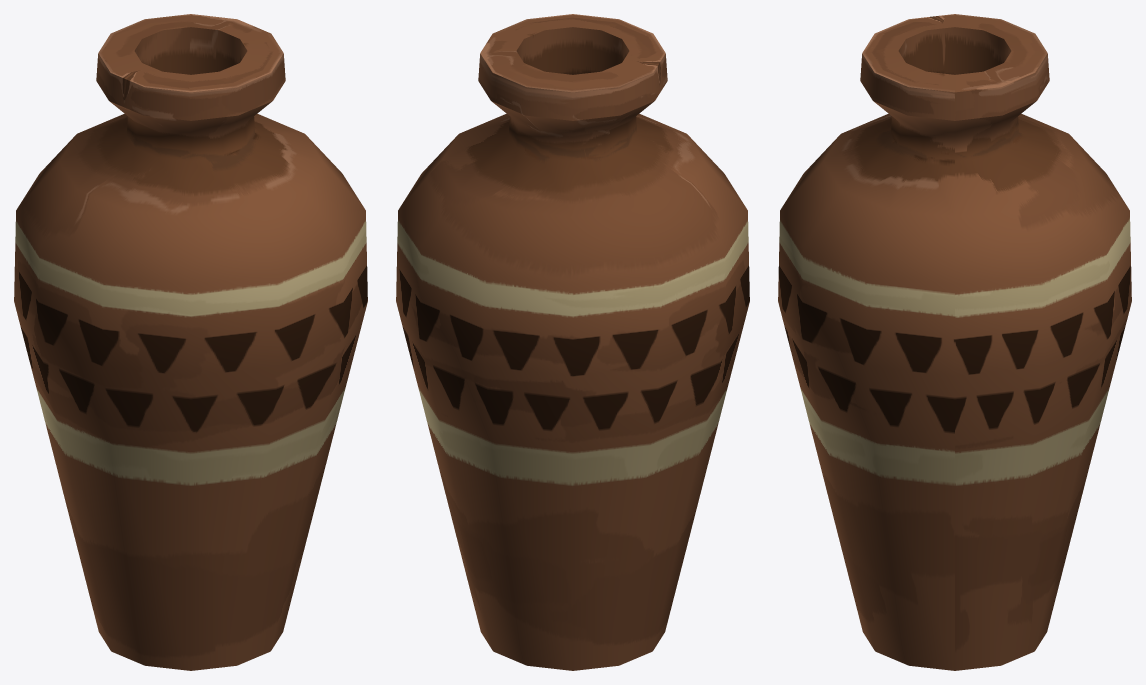
Rendered from SM_PROP_pot_dungeon_05.fbx.
3 views of the same model, side by side, from view 1: azimuth 30°, elevation 25°; view 2: azimuth 150°, elevation 25°; view 3: azimuth 270°, elevation 25° (orthographic).
Parts seen in each view (by area): view 1: SM_PROP_pot_dungeon_05; view 2: SM_PROP_pot_dungeon_05; view 3: SM_PROP_pot_dungeon_05.
Part boxes in pixels (<box>): SM_PROP_pot_dungeon_05: <box>14,14,367,670</box>; SM_PROP_pot_dungeon_05: <box>396,14,749,670</box>; SM_PROP_pot_dungeon_05: <box>778,14,1131,670</box>.
Size of the model in its own units: 40.54 by 73.44 by 40.54.
